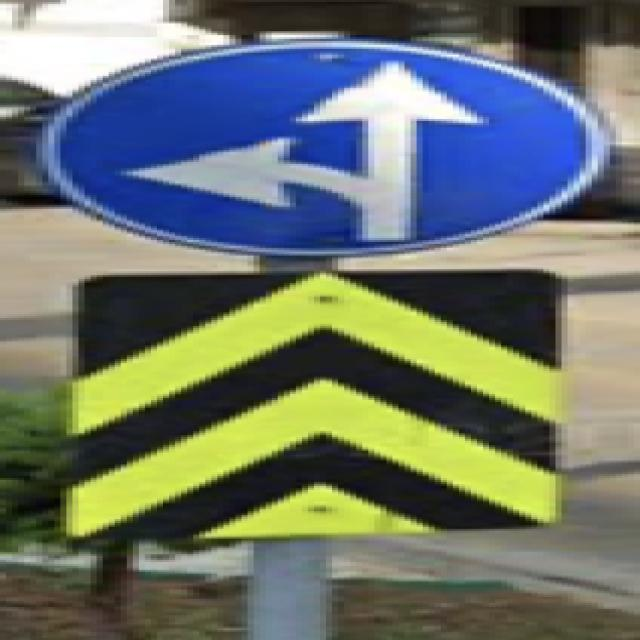Straight or Left: (40, 39, 608, 258)
